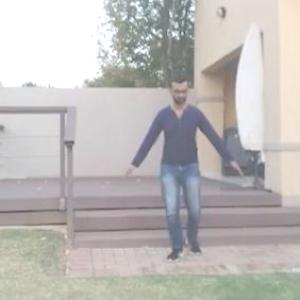land: (130, 73, 242, 258)
